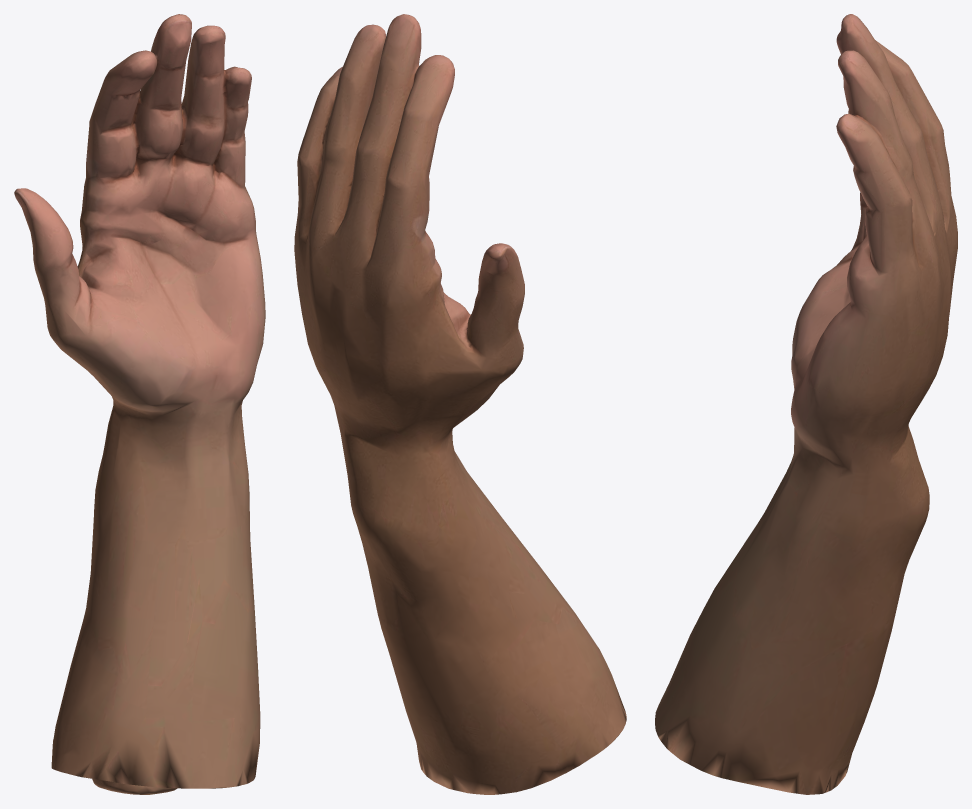
The model's file is slap.glb.
The picture shows the model from 3 angles, left to right: view 1: azimuth 30°, elevation 25°; view 2: azimuth 150°, elevation 25°; view 3: azimuth 270°, elevation 25°; orthographic projection. The views are drawn at different scales.
Visible parts, largest first — view 1: Mesh_0; view 2: Mesh_0; view 3: Mesh_0.
Boxes of the visible parts, <box> form: Mesh_0: <box>14,14,265,794</box>; Mesh_0: <box>294,14,626,794</box>; Mesh_0: <box>655,14,957,794</box>.
Bounding box in the file's own units: 0.6699 × 1.9 × 0.6681.
Materials: 1 (1 with a texture image).
